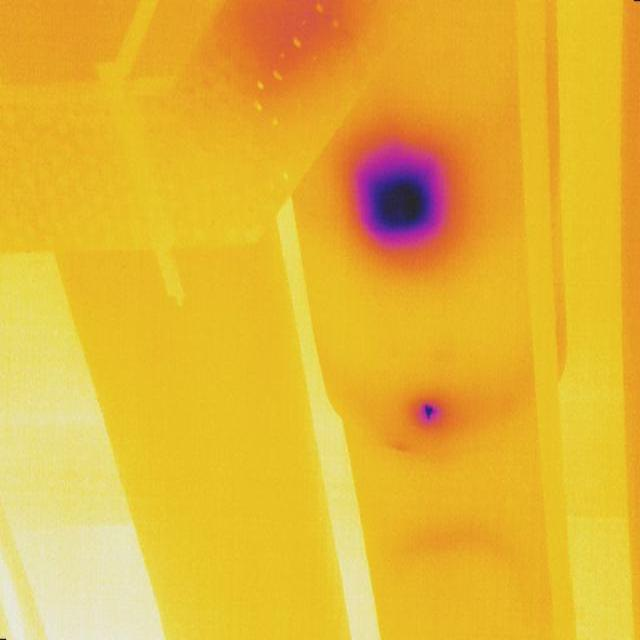leakage: (213, 0, 362, 80), (353, 146, 453, 252), (412, 395, 445, 423)
